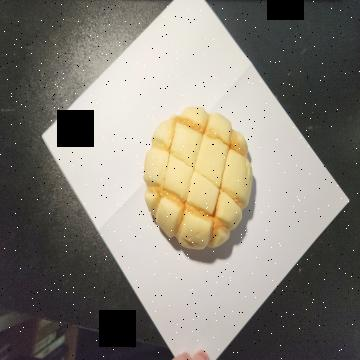melon_bread: (142, 104, 253, 252)
